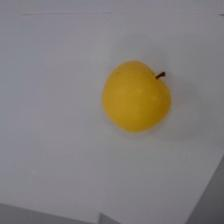yellow: (101, 59, 171, 133)
